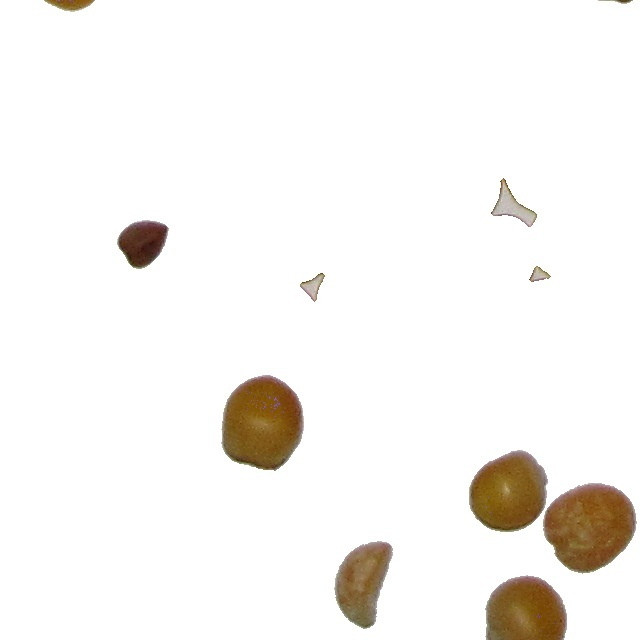buckwheat: (116, 219, 170, 270)
mais: (542, 482, 638, 575), (220, 374, 305, 472), (468, 449, 549, 533), (484, 574, 568, 640)
other: (333, 540, 394, 630), (490, 177, 538, 228), (299, 272, 326, 303), (528, 265, 544, 284)
